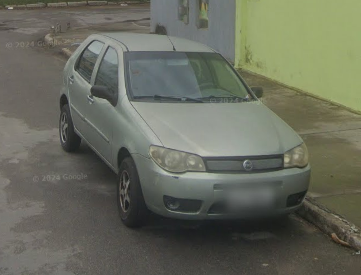car: (58, 30, 313, 236)
